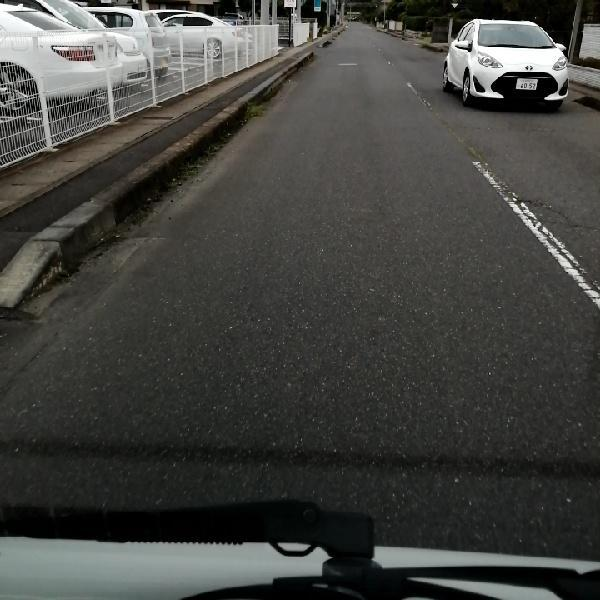D10: (527, 196, 598, 231)
